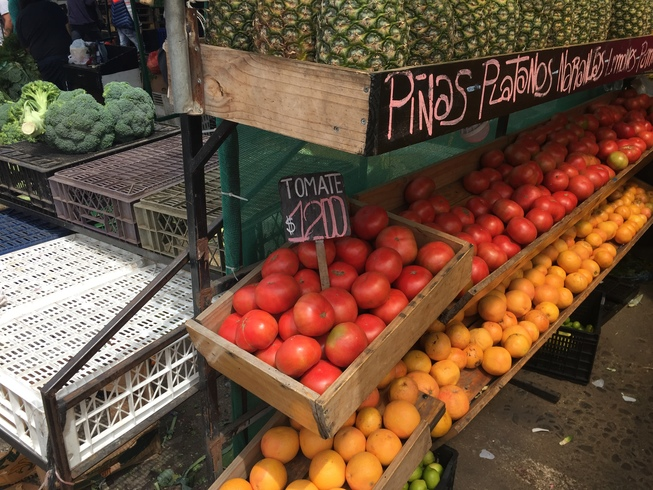precio: (276, 166, 363, 253)
